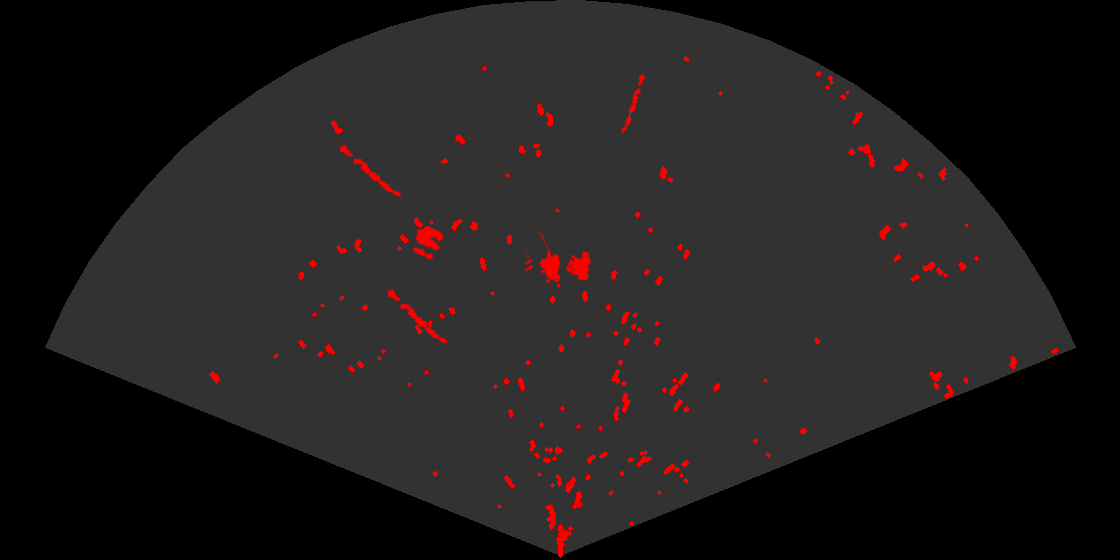ball: (411, 224, 446, 262)
cage: (525, 232, 592, 289)
chain: (377, 282, 449, 345), (330, 139, 403, 198), (620, 72, 647, 136)
